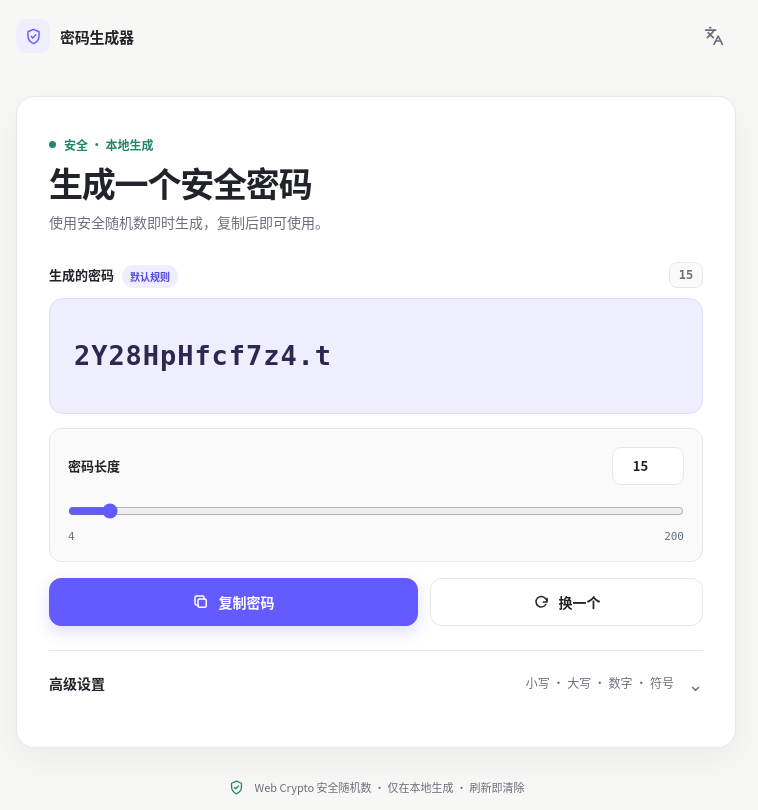
Test case: App › switches languages without persistence
Step 1. Click the button named "切换语言" → point(714, 36), box [692,14,736,58]
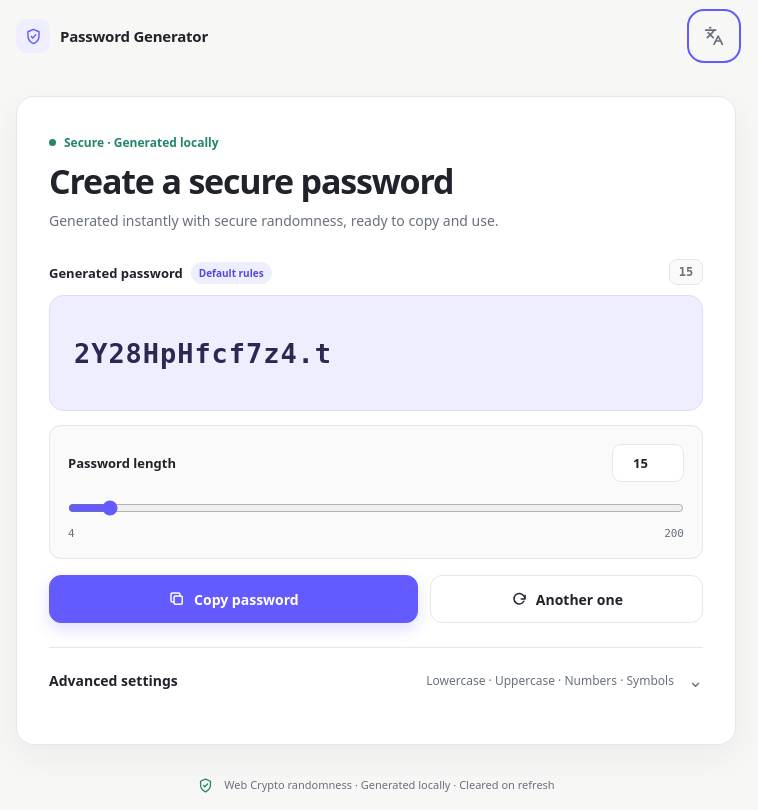
expect the heading "Create a secure password" is shown: met, box [49,158,453,204]
expect the button "Another one" is shown: met, box [430,576,703,624]
expect the button named "Switch language" is shown: met
Step 2. Click the button named "Switch language" → point(714, 36), box [692,14,736,58]
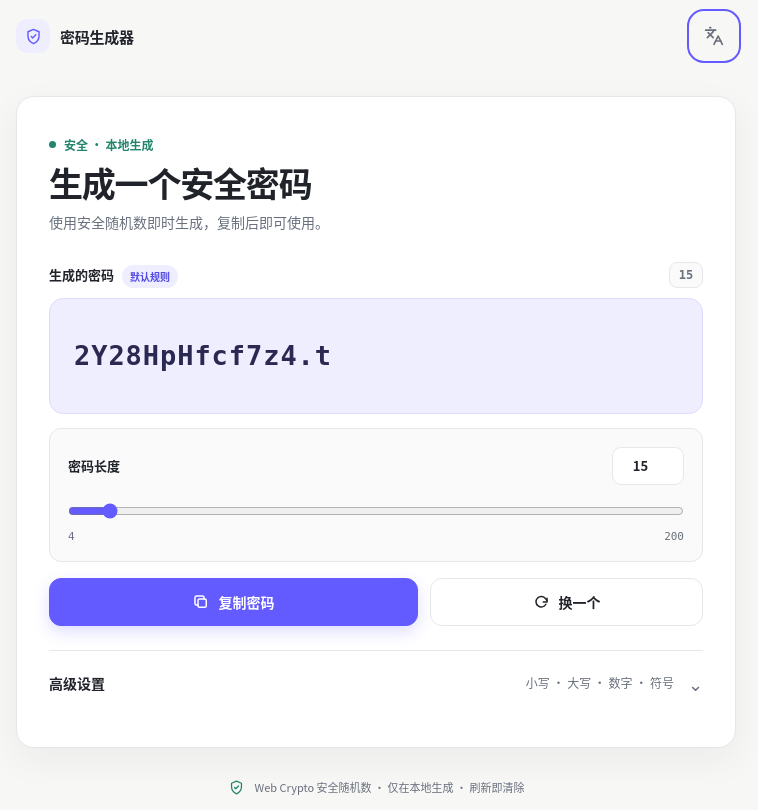
expect the heading "生成一个安全密码" is shown: met, box [49,158,312,207]
